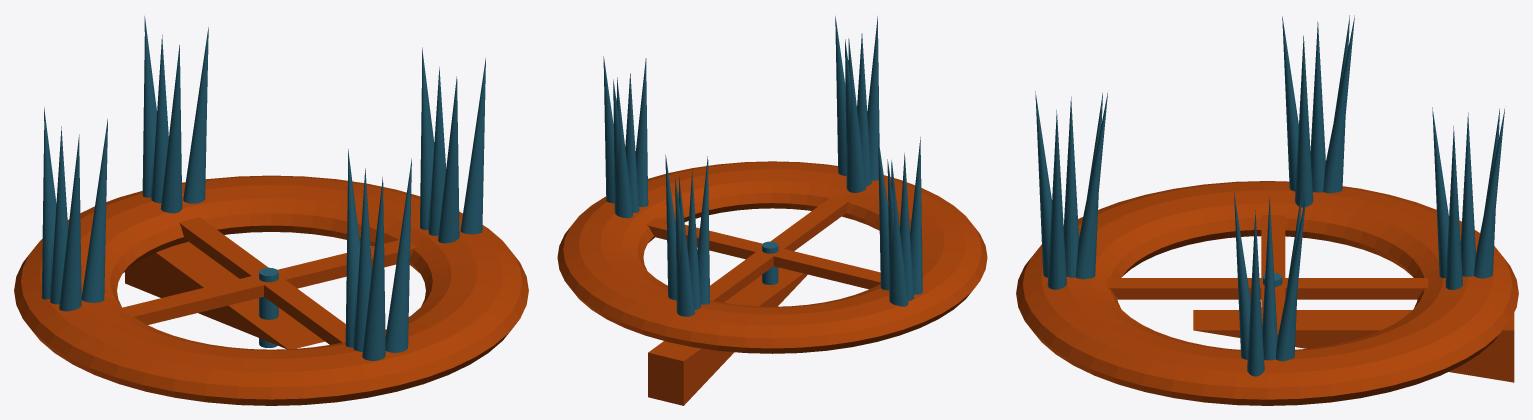
Rendered from shturu_KARUSEL.fbx.
3 views of the same model, side by side, from view 1: azimuth 30°, elevation 25°; view 2: azimuth 150°, elevation 25°; view 3: azimuth 270°, elevation 25° (orthographic). The views are drawn at different scales.
Parts seen in each view (by area): view 1: Icosphere, Cube.002, Cube, Cube.001, Cone.004, Cone.001, Cone.015, Cone.018, Cone.005, Cone.014, Cone.008, Cone.011 (+9 smaller); view 2: Icosphere, Cube.002, Cube, Cube.001, Cone.003, Cone.016, Cone.001, Cone.018, Cone.011, Cone.008, Cone.006, Cone.004 (+13 smaller); view 3: Icosphere, Cube.002, Cube.001, Cone.004, Cone.002, Cone.015, Cone, Cube, Cone.017, Cone.019, Cone.014, Cone.005 (+12 smaller).
Part boxes in pixels (x1,y1,x2,y2): Icosphere: (14, 175, 528, 405); Cube.002: (125, 241, 324, 349); Cube: (121, 240, 416, 324); Cube.001: (179, 217, 345, 344); Cone.004: (385, 158, 411, 352); Cone.001: (362, 177, 385, 360); Cone.015: (81, 119, 107, 302); Cone.018: (59, 134, 81, 311); Cone.005: (183, 27, 208, 203); Cone.014: (460, 58, 485, 234); Cone.008: (160, 45, 182, 213); Cone.011: (438, 76, 459, 243); Icosphere: (557, 161, 987, 353); Cube.002: (648, 267, 807, 405); Cube: (646, 217, 880, 289); Cube.001: (710, 196, 849, 302); Cone.003: (846, 38, 866, 192); Cone.016: (889, 160, 908, 306); Cone.001: (867, 16, 879, 180); Cone.018: (910, 137, 922, 294); Cone.011: (635, 58, 648, 207); Cone.008: (697, 156, 710, 304); Cone.006: (677, 175, 694, 316); Cone.004: (835, 16, 846, 176); Icosphere: (1016, 181, 1518, 405); Cube.002: (1193, 310, 1514, 382); Cube.001: (1106, 278, 1428, 299); Cone.004: (1047, 110, 1066, 289); Cone.002: (1075, 92, 1107, 279); Cone.015: (1295, 35, 1313, 207); Cone: (1063, 96, 1078, 277); Cube: (1261, 215, 1285, 336); Cone.017: (1323, 15, 1354, 193); Cone.019: (1310, 21, 1325, 192); Cone.014: (1247, 209, 1264, 376); Cone.005: (1445, 126, 1462, 289).
Size of the model in its own units: 418 by 256 by 418.
